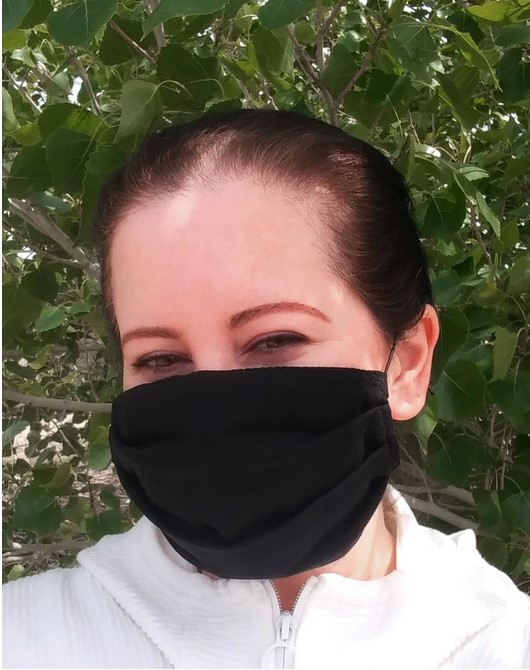face_with_mask: (97, 130, 425, 586)
